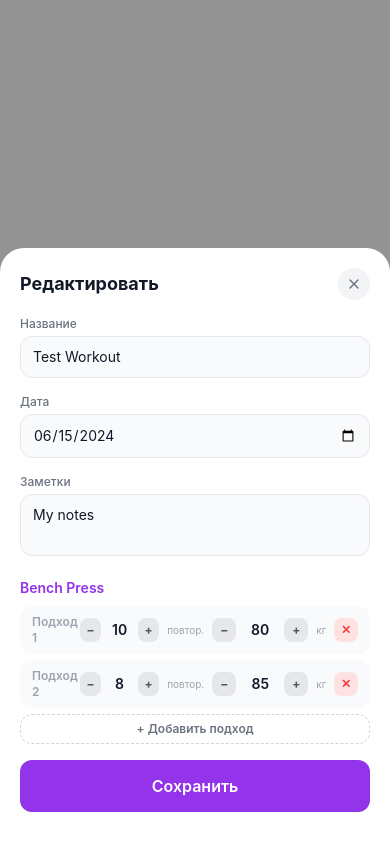
Test: EditWorkoutSheet › removes a set when ✕ is clicked
This screenshot has width=390, height=844.
Find ✕ buttons (remove set)
Click the button "✕" in the row of "80" at (346,630), box [334, 618, 358, 642]
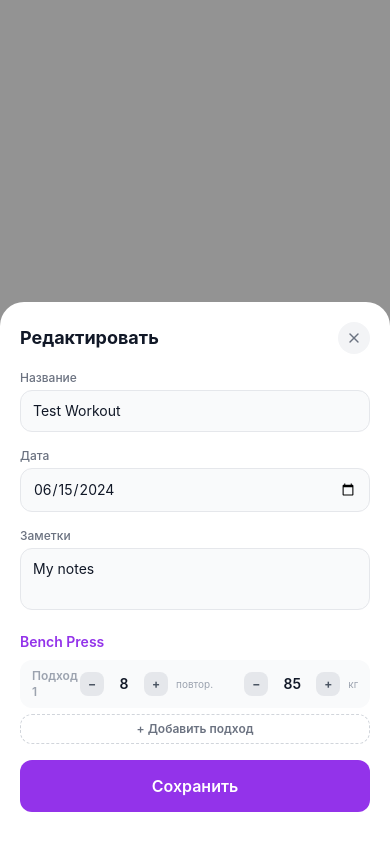
Check: the text "Подход 2" is gone
